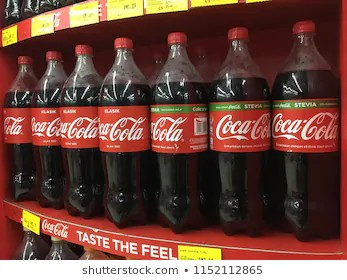coke-bottle-2l: (269, 18, 340, 243), (148, 29, 217, 234), (211, 22, 274, 237), (100, 37, 156, 224), (57, 39, 106, 218), (31, 48, 66, 213), (4, 53, 37, 204)
